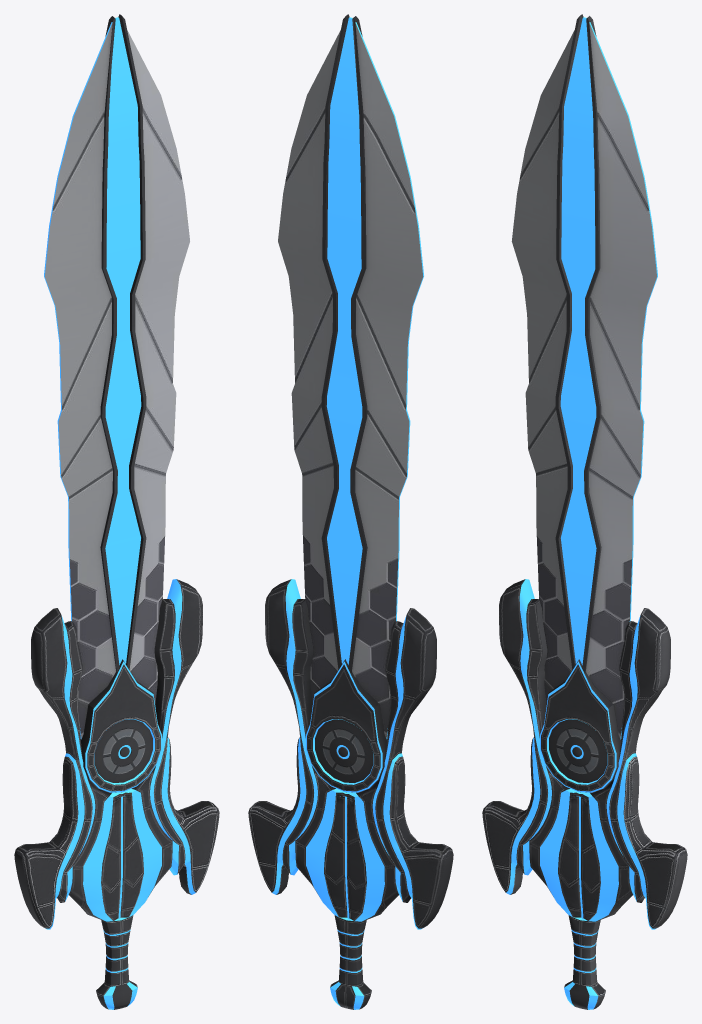
The model's file is scifiSword.glb.
3 renders of one model, left to right at view 1: azimuth 30°, elevation 25°; view 2: azimuth 150°, elevation 25°; view 3: azimuth 330°, elevation 25°, orthographic.
Parts seen in each view (by area): view 1: ablade; view 2: ablade; view 3: ablade.
Part boxes in pixels (x1,y1,x2,y2): ablade: [14, 14, 219, 1009]; ablade: [248, 14, 453, 1009]; ablade: [482, 14, 687, 1009].
Size of the model in its own units: 0.3013 by 1.43 by 0.0462.
Materials: 3 (2 with a texture image).
